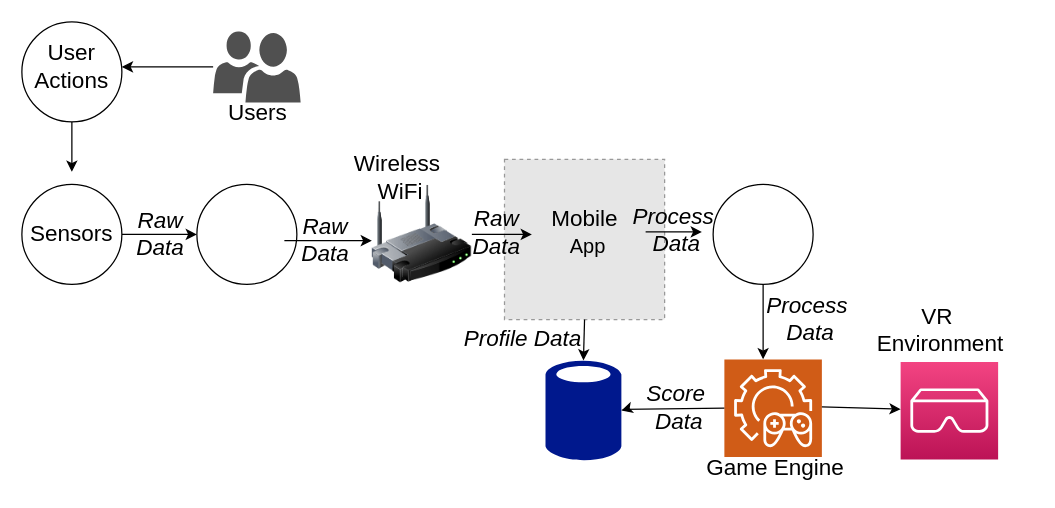
Image size: 1055x508. Some labels were removed from this diagram. Grey dashed boxes stand in for pictures. Here are the shapes that lost their labels. From the top down, the centre of each, then its label:
At (246,233): "WiFi Module".
At (762,233): "Web Socket".
